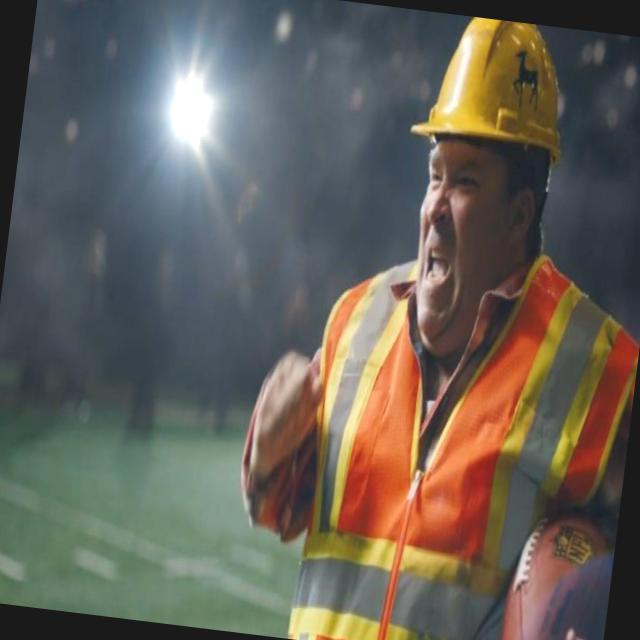helmet: (402, 10, 582, 168)
vest: (266, 237, 640, 640)
